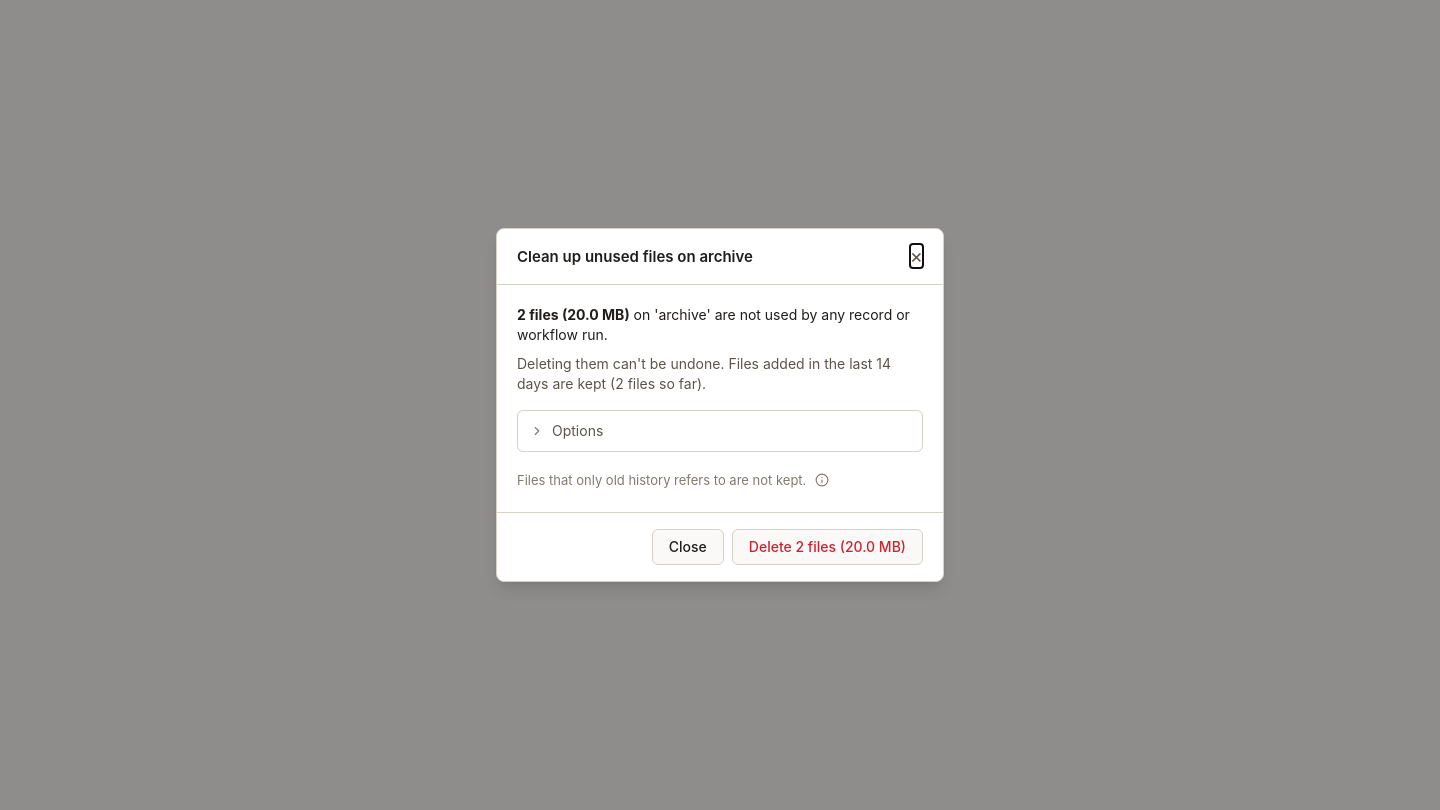
Test: CleanUpDialog › deletes exactly what it showed, on the same volume, then says what was freed
Click the button "Delete 2 files (20.0 MB)" at (827, 547), box [732,529,923,565]
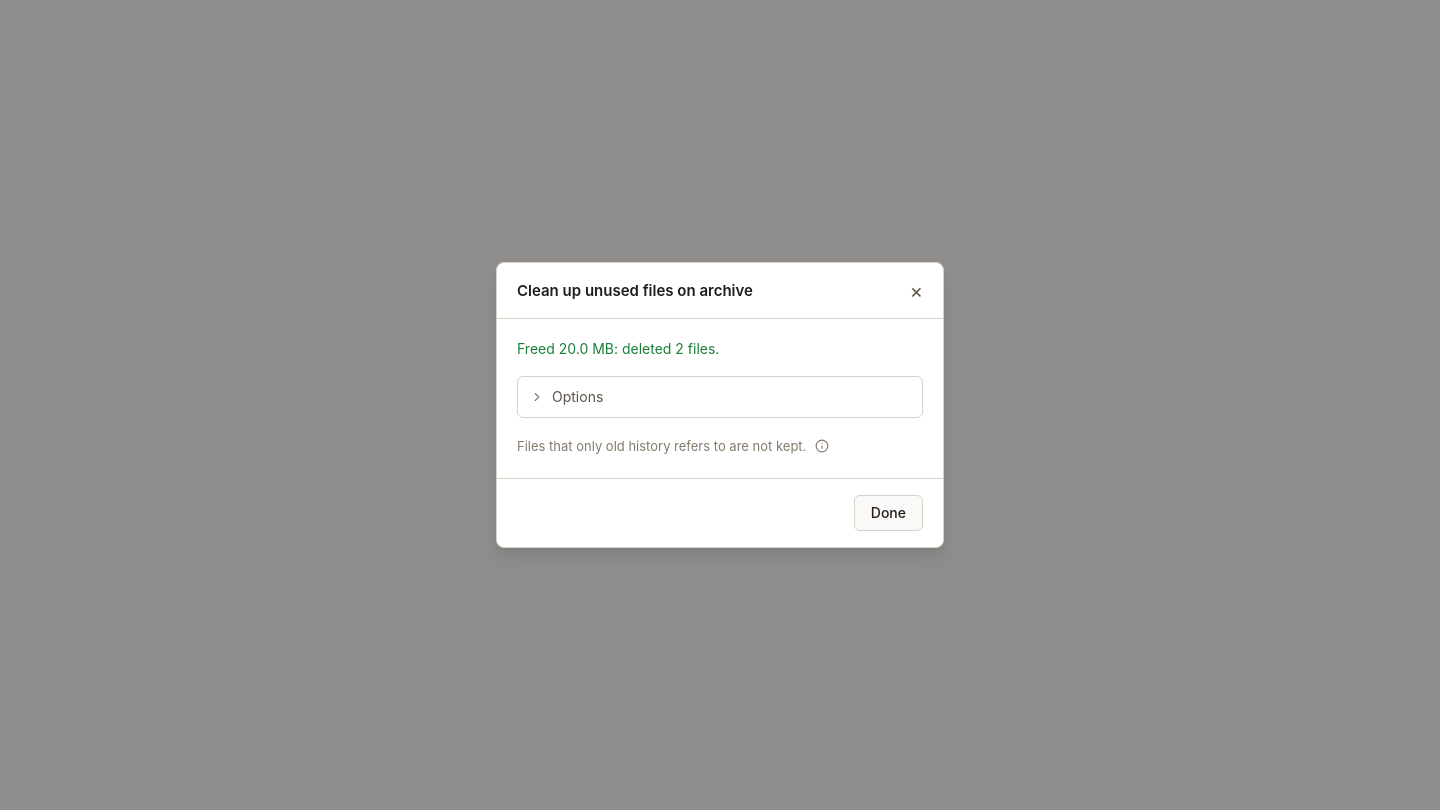
Expected: the message reads "Freed 20.0 MB: deleted 2 files.", [517,340,719,358]
Expected: the button "Done" is shown, [854,495,923,531]
